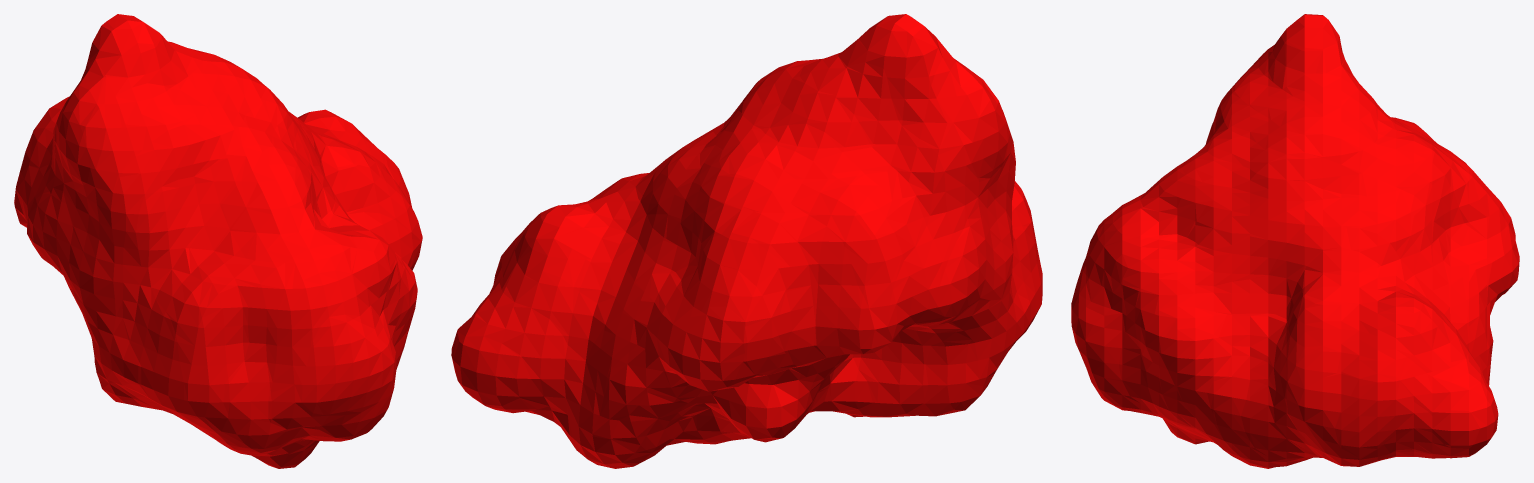
File: ygfZ_coarse.dae
The picture shows the model from 3 angles, left to right: view 1: azimuth 30°, elevation 25°; view 2: azimuth 150°, elevation 25°; view 3: azimuth 270°, elevation 25°; orthographic projection. The views are drawn at different scales.
Visible parts, largest first — view 1: ygfZ; view 2: ygfZ; view 3: ygfZ.
Part boxes in pixels (box(x1,y1,x2,y2)): ygfZ: box(14, 14, 422, 468); ygfZ: box(451, 14, 1042, 468); ygfZ: box(1071, 14, 1519, 468).
Bounding box in the file's own units: 54.94 × 56.91 × 60.16.
